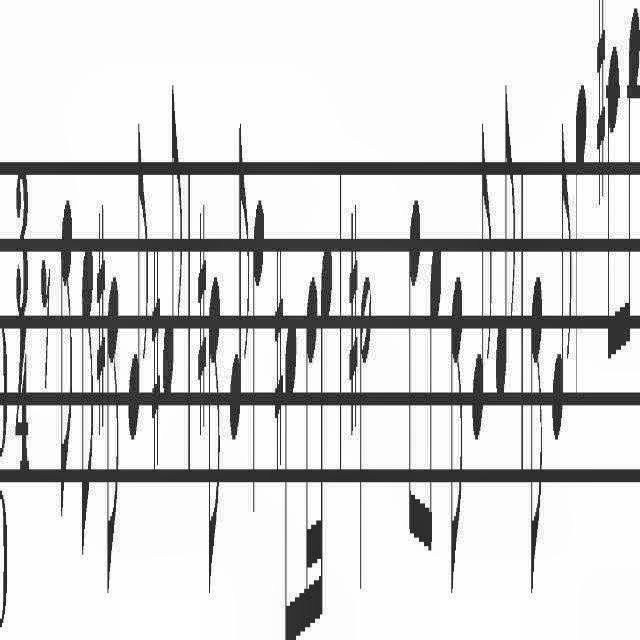Diez: (195, 164, 207, 456), (95, 173, 107, 439), (346, 175, 358, 438), (272, 231, 284, 481), (152, 178, 160, 507), (596, 0, 606, 208)
Eighth-note: (548, 110, 572, 462), (471, 87, 493, 457), (228, 97, 250, 461), (494, 62, 516, 414), (161, 64, 183, 410), (128, 97, 148, 473), (56, 162, 76, 528), (527, 253, 545, 622), (425, 210, 443, 578), (447, 270, 465, 630), (404, 172, 420, 568), (623, 8, 640, 354), (206, 255, 222, 600), (606, 46, 622, 378), (80, 212, 94, 560), (108, 256, 120, 628), (284, 294, 296, 640), (639, 8, 640, 354)
Eighth-rest: (40, 225, 52, 401)
Half-note: (358, 264, 374, 640)
Quarter-note: (572, 53, 588, 431), (252, 176, 266, 552)
Sixteenth-note: (318, 208, 334, 640), (302, 260, 318, 640)
